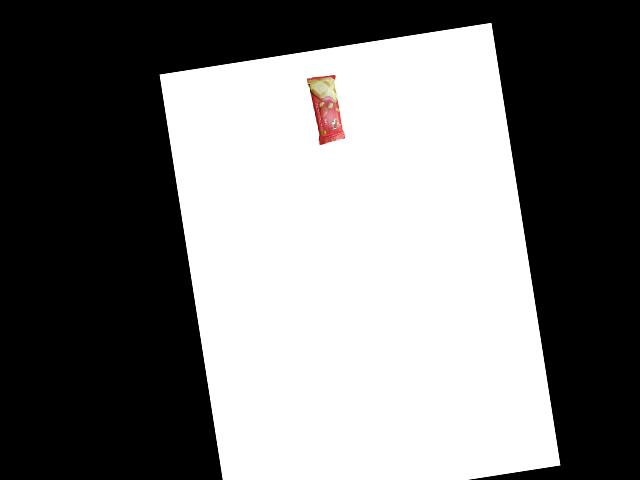chocolate: (302, 73, 348, 150)
